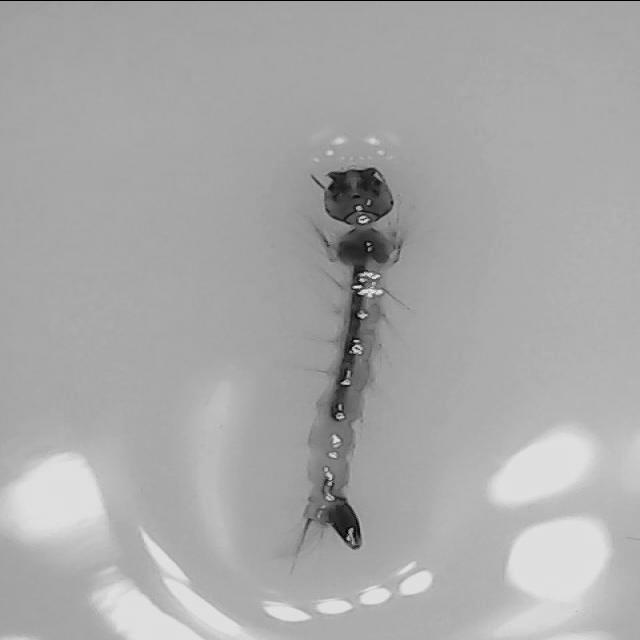larvas: (303, 162, 400, 548)
